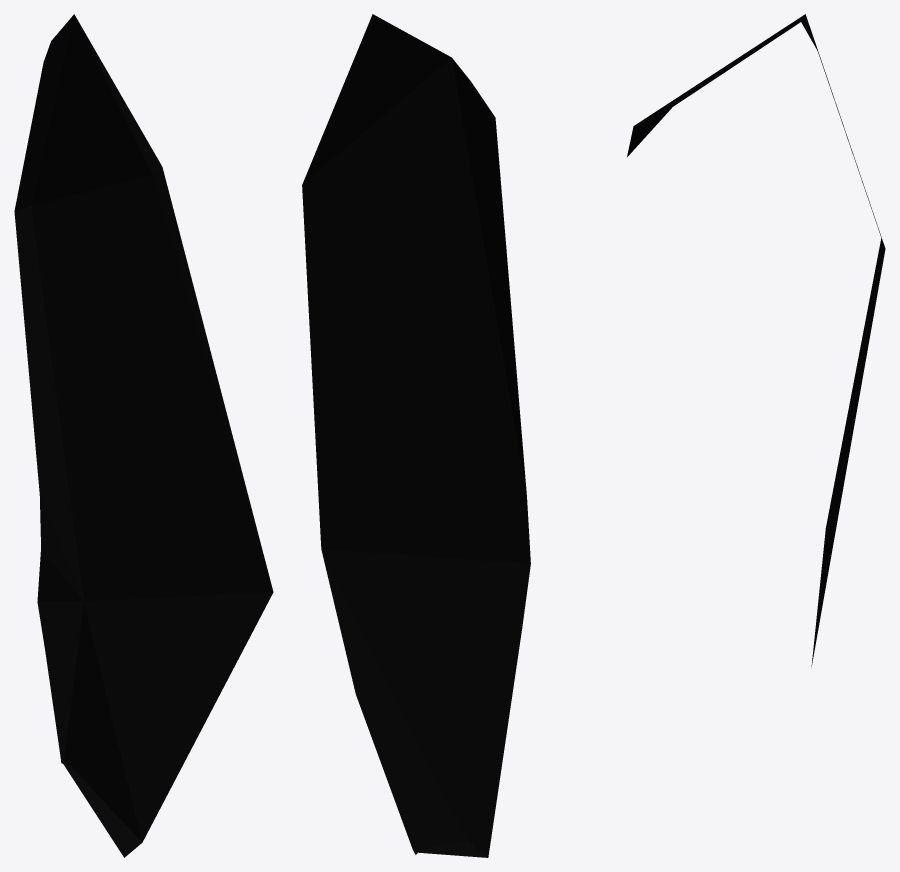
3 renders of one model, left to right at view 1: azimuth 30°, elevation 25°; view 2: azimuth 150°, elevation 25°; view 3: azimuth 270°, elevation 25°, orthographic. The views are drawn at different scales.
Bounding box in the file's own units: 0.0289 × 0.1468 × 0.0506.
Materials: 1 (1 with a texture image).
